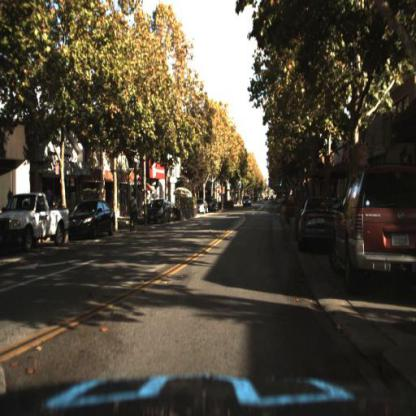car: (329, 161, 416, 293), (2, 185, 72, 249), (293, 197, 348, 252), (68, 196, 117, 242), (145, 197, 175, 228), (194, 197, 210, 218), (196, 197, 209, 220), (243, 194, 254, 213)
pedestrian: (127, 190, 138, 235)
